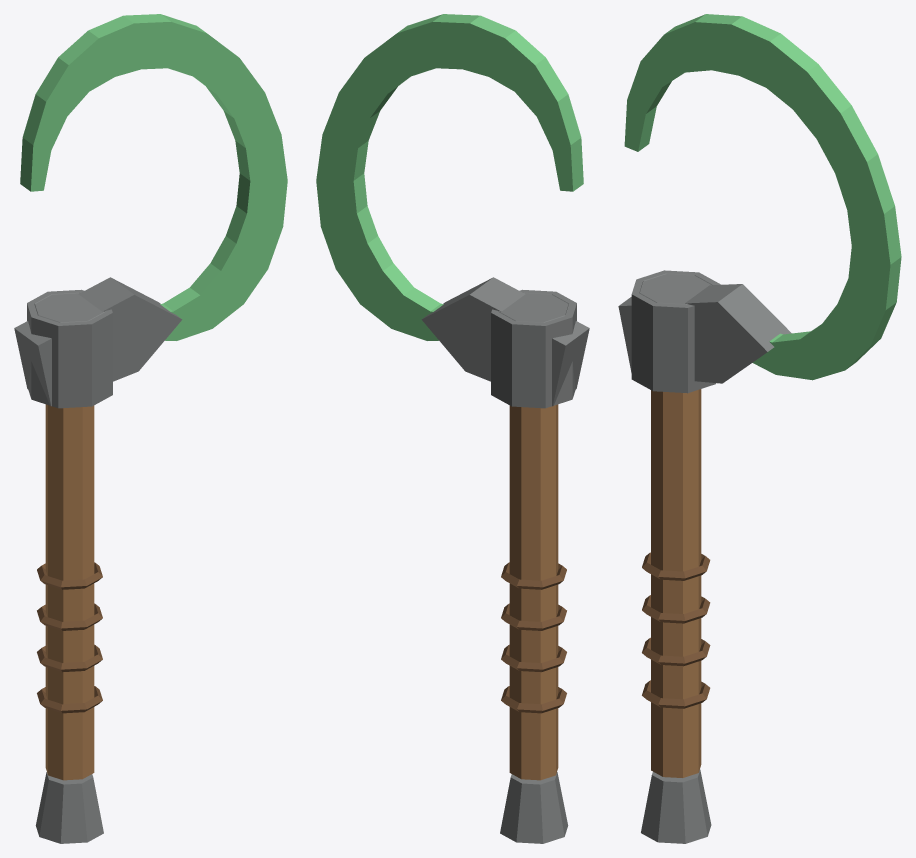
The model's file is t3_sickle.glb.
3 renders of one model, left to right at view 1: azimuth 30°, elevation 25°; view 2: azimuth 150°, elevation 25°; view 3: azimuth 330°, elevation 25°, orthographic. The views are drawn at different scales.
Visible parts, largest first — view 1: CurvedBlade, WoodHandle, BladeSocket, BladeBasePlate, BottomPommel, LeatherWrap3, LeatherWrap1, LeatherWrap4, LeatherWrap2; view 2: CurvedBlade, WoodHandle, BladeSocket, BladeBasePlate, BottomPommel, LeatherWrap3, LeatherWrap1, LeatherWrap4, LeatherWrap2; view 3: CurvedBlade, WoodHandle, BladeSocket, BladeBasePlate, BottomPommel, LeatherWrap4, LeatherWrap2, LeatherWrap3, LeatherWrap1.
Part boxes in pixels (<box>): CurvedBlade: <box>20,14,287,340</box>; WoodHandle: <box>45,404,94,780</box>; BladeSocket: <box>27,289,112,408</box>; BladeBasePlate: <box>14,277,182,406</box>; BottomPommel: <box>35,772,103,843</box>; LeatherWrap3: <box>37,603,102,630</box>; LeatherWrap1: <box>37,686,102,713</box>; LeatherWrap4: <box>37,562,102,589</box>; LeatherWrap2: <box>37,644,102,672</box>; CurvedBlade: <box>316,14,583,340</box>; WoodHandle: <box>509,404,558,780</box>; BladeSocket: <box>491,289,576,408</box>; BladeBasePlate: <box>421,277,589,406</box>; BottomPommel: <box>500,772,568,843</box>; LeatherWrap3: <box>501,603,566,630</box>; LeatherWrap1: <box>501,686,566,713</box>; LeatherWrap4: <box>501,562,566,589</box>; LeatherWrap2: <box>501,644,566,672</box>; CurvedBlade: <box>624,14,901,380</box>; WoodHandle: <box>651,389,701,777</box>; BladeSocket: <box>631,270,720,393</box>; BladeBasePlate: <box>618,284,791,383</box>; BottomPommel: <box>641,769,711,843</box>; LeatherWrap4: <box>642,552,710,580</box>; LeatherWrap2: <box>642,637,710,666</box>; LeatherWrap3: <box>642,595,710,623</box>; LeatherWrap1: <box>642,680,710,708</box>.
Bounding box in the file's own units: 0.5877 × 1.74 × 0.176.
